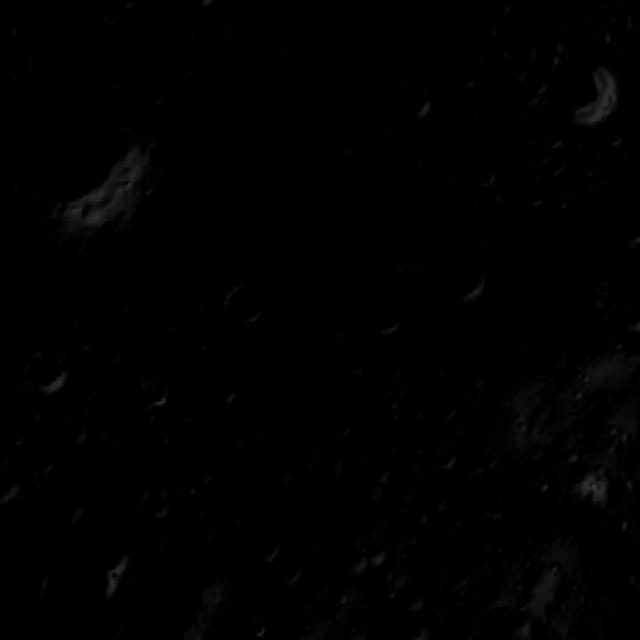crater: (14, 56, 194, 273), (346, 203, 436, 285), (425, 239, 507, 321), (352, 275, 433, 354), (14, 340, 80, 406), (232, 515, 292, 576), (217, 278, 275, 338), (216, 404, 272, 459), (556, 448, 606, 506), (300, 306, 352, 360), (143, 297, 191, 348), (397, 77, 446, 126), (254, 446, 303, 494), (461, 150, 508, 198), (540, 330, 586, 378), (87, 529, 135, 574), (374, 604, 434, 640), (592, 113, 636, 161), (386, 570, 431, 615), (419, 437, 466, 480), (492, 56, 537, 95), (422, 614, 489, 640), (62, 408, 100, 450), (52, 482, 88, 526), (139, 480, 175, 522), (389, 123, 429, 160), (514, 177, 554, 214), (0, 454, 25, 512), (272, 552, 310, 590), (418, 482, 456, 520), (430, 392, 467, 431), (364, 452, 401, 491), (267, 614, 321, 640), (565, 202, 603, 238), (607, 211, 640, 251), (356, 534, 393, 569), (571, 236, 607, 270), (290, 368, 322, 402), (454, 212, 486, 242), (163, 386, 195, 416), (145, 376, 172, 410), (515, 570, 543, 598), (526, 470, 554, 498), (243, 614, 271, 640), (103, 341, 129, 367), (621, 302, 640, 334), (178, 0, 228, 11), (624, 335, 640, 366), (117, 0, 143, 18)
